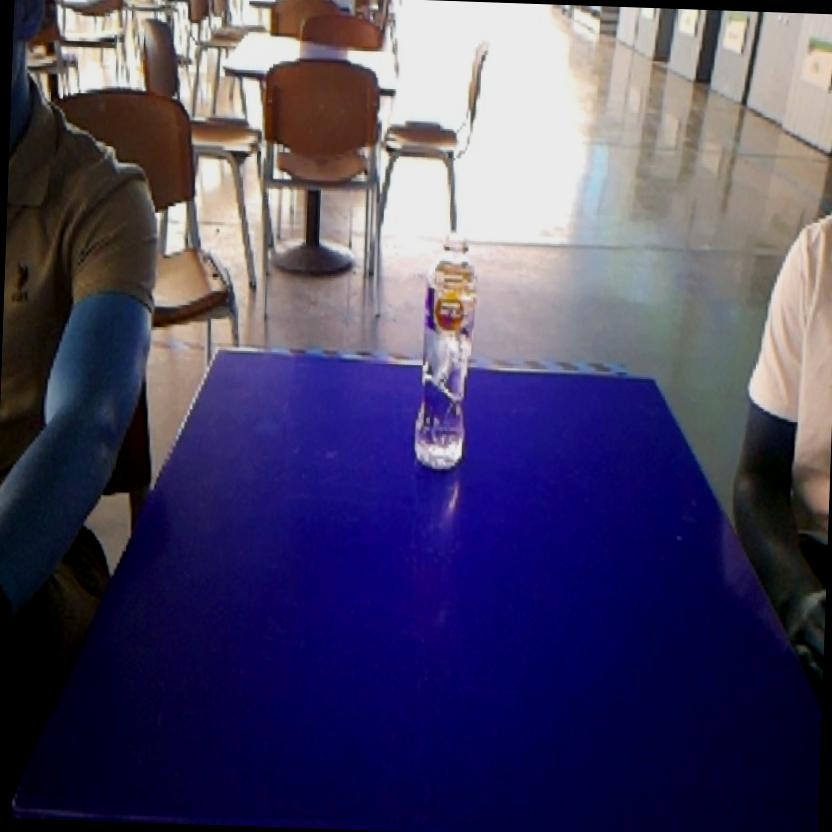no_cap: (408, 224, 490, 479)
